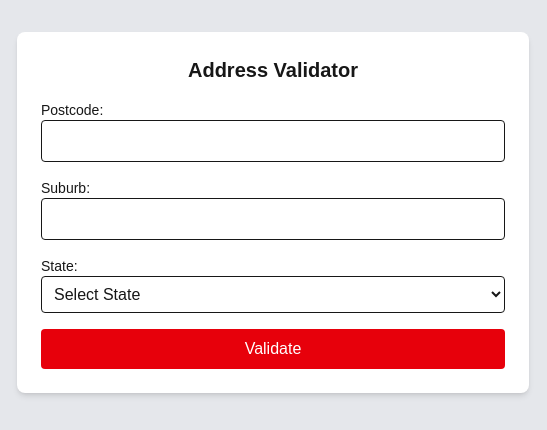
Test: ValidateForm Component › trim space in suburb and postcode
In the field labelled "Postcode:": (273, 140) [41, 120, 505, 162], type "  2001  "
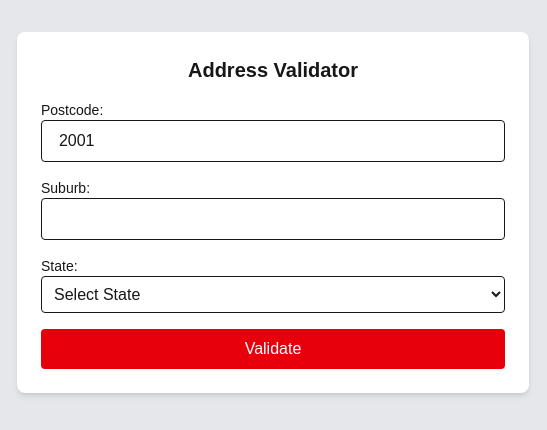
In the field labelled "Suburb:": (273, 218) [41, 198, 505, 240], type "  Broadway  "
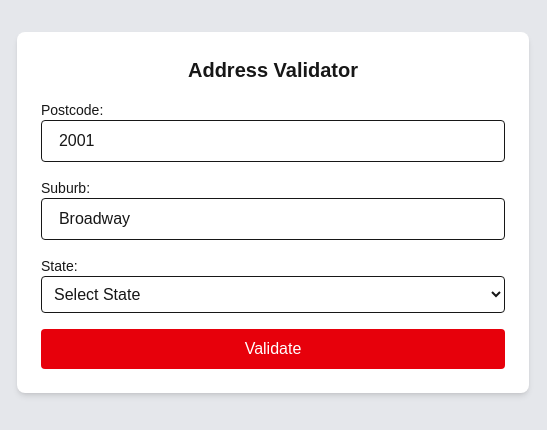
Select "NSW" in the dropdown labelled "State:": (273, 294) [41, 276, 505, 312]
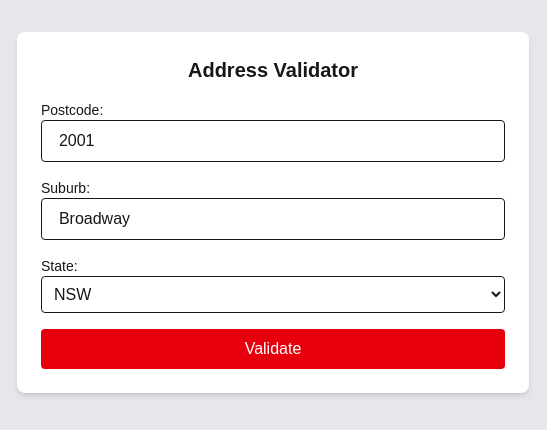
Submit the form from the button "Validate", box [41, 328, 505, 368]
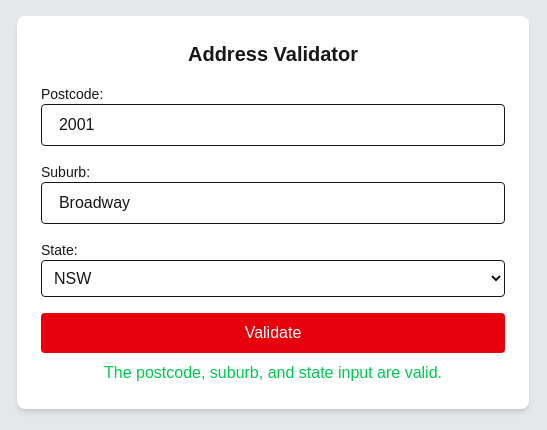
Check: the text "The postcode, suburb, and state input are valid." is shown, box [104, 364, 442, 380]
